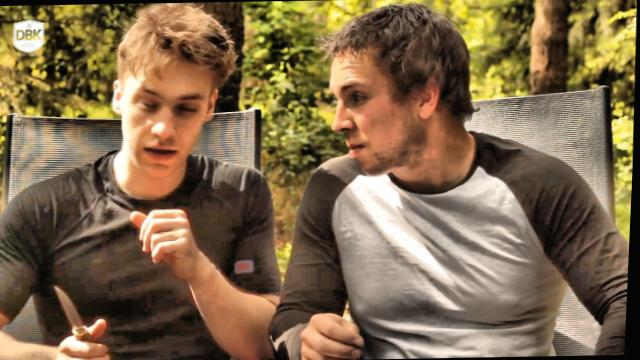knife: (46, 272, 124, 360)
